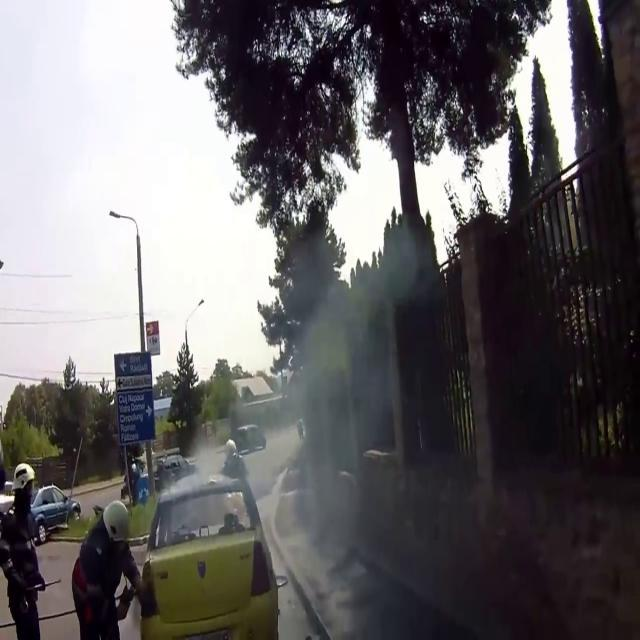Smoke: (250, 221, 498, 639)
